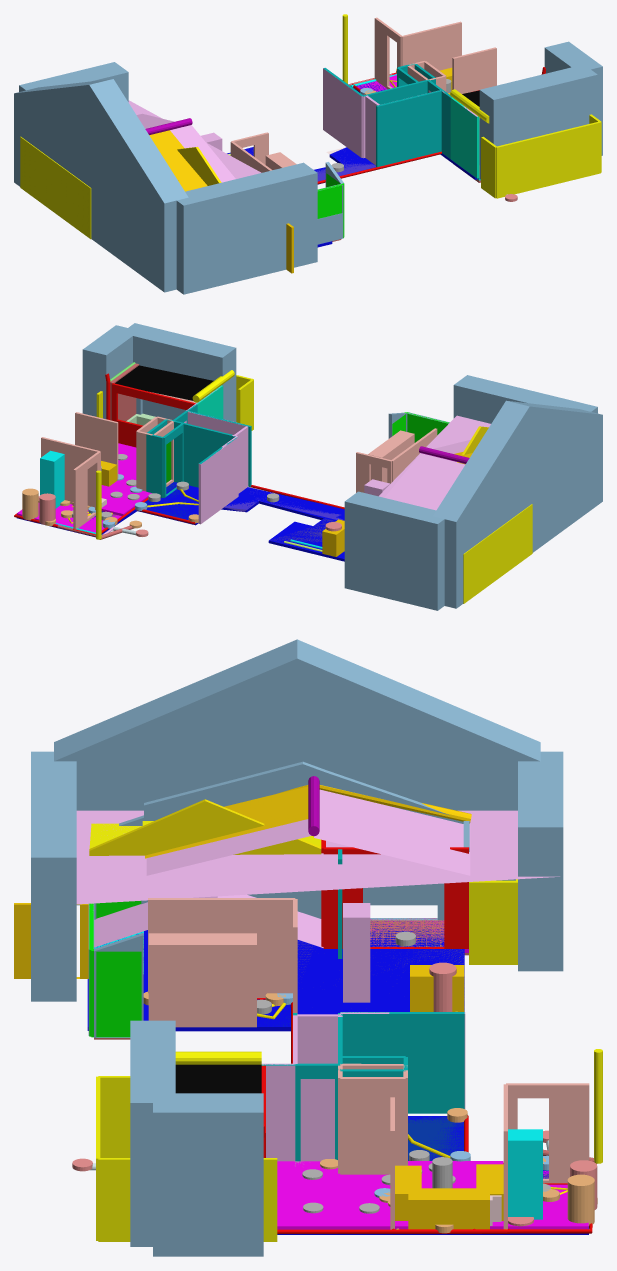
Rendered from renov.glb.
3 views of the same model, one above another, from view 1: azimuth 30°, elevation 25°; view 2: azimuth 150°, elevation 25°; view 3: azimuth 270°, elevation 25° (orthographic). The views are drawn at different scales.
Parts seen in each view (by area): view 1: Scaffold (×5), Site Security Fence (×3), Wall Int (×5), Demolish Int Wall (×3), Wall Int Ins (×3), Demolish Lining and Cladding, Roof Truss, Affected Floor Area, Roof Masonry, Remove Lathe and Stucco, Fibre Cement Plastered, Tarpaulin (+4 smaller); view 2: Scaffold (×5), Wall Int (×6), Affected Floor Area, Site Security Fence (×2), Wall Int Ins (×4), Demolish Int Wall (×3), Roof Masonry, Roof Trough Medium, False Floor, Demolish Ext Wall, Tarpaulin, Cupboard Pine Shelves (+9 smaller); view 3: Scaffold (×5), Tarpaulin, Wall Int (×3), Affected Floor Area, Site Security Fence (×3), Roof Masonry (×2), Wardrobe Shelf Partial Height Laminate, Demolish Int Wall (×3), False Floor (×2), Wall Int Ins (×3), Fibre Cement Plastered (×3), Base Unit (×4) (+17 smaller).
Part boxes in pixels (bbox=[...]): Scaffold (×5): bbox=[14, 41, 602, 294]; Site Security Fence (×3): bbox=[20, 121, 600, 239]; Wall Int (×5): bbox=[230, 17, 496, 172]; Demolish Int Wall (×3): bbox=[362, 79, 451, 167]; Wall Int Ins (×3): bbox=[323, 67, 379, 165]; Demolish Lining and Cladding: bbox=[450, 97, 479, 178]; Roof Truss: bbox=[149, 130, 207, 191]; Affected Floor Area: bbox=[227, 82, 477, 247]; Roof Masonry: bbox=[170, 125, 235, 182]; Remove Lathe and Stucco: bbox=[317, 183, 343, 237]; Fibre Cement Plastered: bbox=[317, 184, 343, 244]; Tarpaulin: bbox=[128, 100, 261, 178]; Scaffold (×5): bbox=[82, 323, 602, 610]; Wall Int (×6): bbox=[41, 412, 437, 529]; Affected Floor Area: bbox=[17, 482, 344, 561]; Site Security Fence (×2): bbox=[238, 379, 532, 603]; Wall Int Ins (×4): bbox=[187, 411, 248, 524]; Demolish Int Wall (×3): bbox=[146, 420, 235, 497]; Roof Masonry: bbox=[384, 453, 465, 510]; Roof Trough Medium: bbox=[115, 365, 213, 400]; False Floor: bbox=[101, 443, 151, 515]; Demolish Ext Wall: bbox=[111, 383, 195, 447]; Tarpaulin: bbox=[379, 415, 490, 497]; Cupboard Pine Shelves: bbox=[40, 450, 64, 508]; Scaffold (×5): bbox=[31, 639, 563, 1256]; Tarpaulin: bbox=[76, 810, 559, 904]; Wall Int (×3): bbox=[148, 898, 589, 1183]; Affected Floor Area: bbox=[87, 921, 588, 1234]; Site Security Fence (×3): bbox=[98, 880, 517, 1241]; Roof Masonry (×2): bbox=[146, 789, 470, 875]; Wardrobe Shelf Partial Height Laminate: bbox=[148, 933, 256, 1027]; Demolish Int Wall (×3): bbox=[295, 1012, 464, 1161]; False Floor (×2): bbox=[277, 1161, 588, 1229]; Wall Int Ins (×3): bbox=[262, 1014, 340, 1161]; Fibre Cement Plastered (×3): bbox=[94, 761, 463, 1037]; Base Unit (×4): bbox=[395, 965, 503, 1229].
Bounding box in the file's own units: 19.33 × 6.2 × 12.97.
